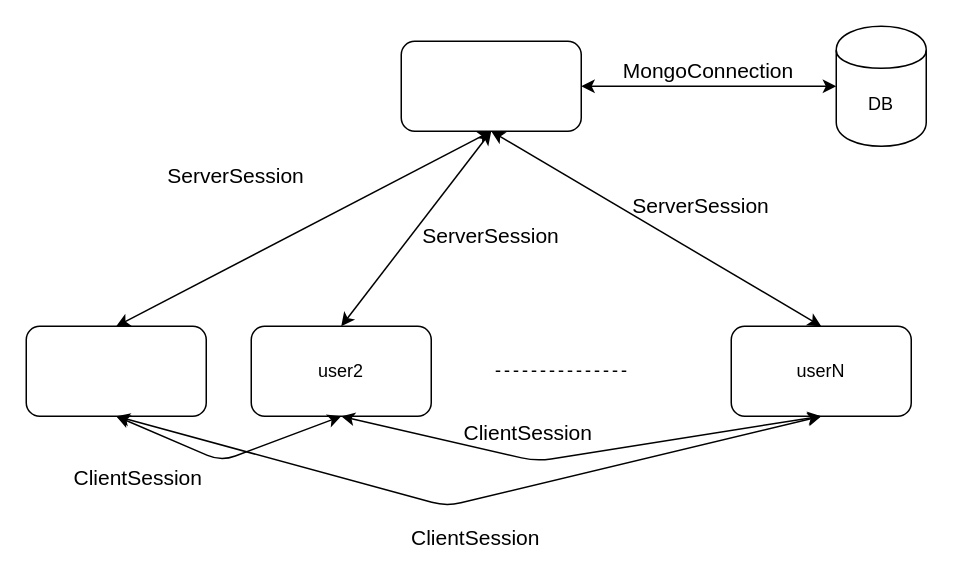
This 953x578 diagram has some shape labels left out. The centre of each missing label's shape, as x and y in pixels:
Server: point 490,85
User1: point 115,370
